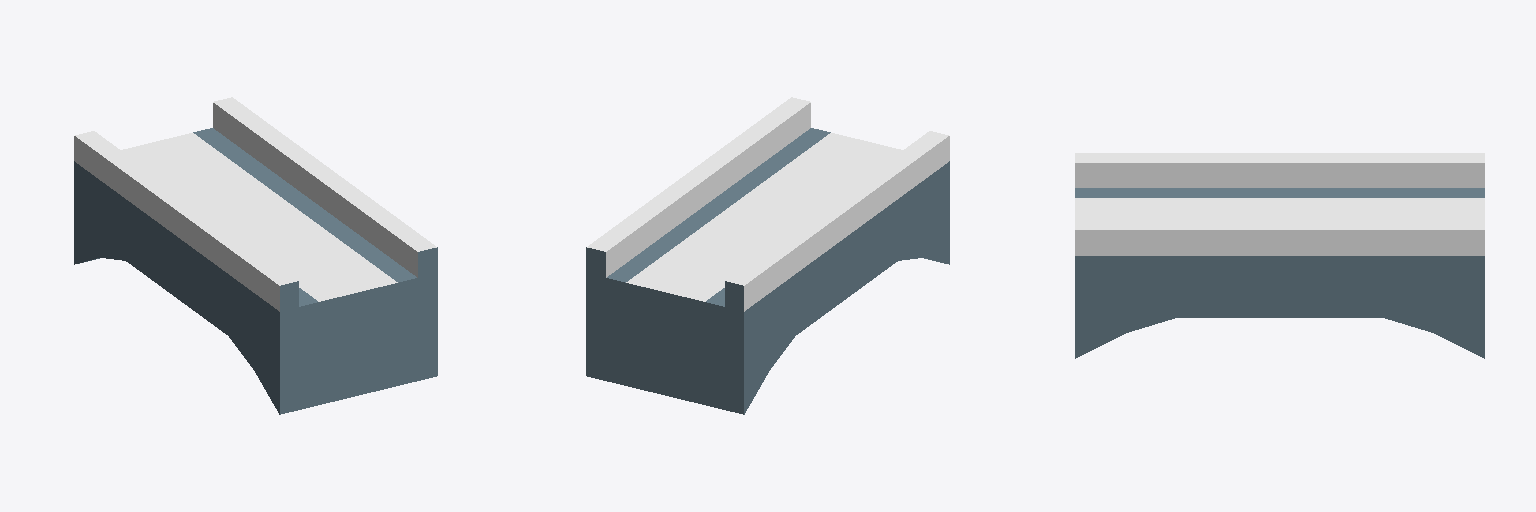
3 renders of one model, left to right at view 1: azimuth 30°, elevation 25°; view 2: azimuth 150°, elevation 25°; view 3: azimuth 270°, elevation 25°, orthographic.
Visible parts, largest first — view 1: group[number redacted]; view 2: group[number redacted]; view 3: group[number redacted].
Part boxes in pixels (x1,y1,x2,y2): group[number redacted]: (74, 97, 437, 414); group[number redacted]: (586, 97, 949, 414); group[number redacted]: (1075, 153, 1484, 358).
Size of the model in its own units: 0.32 by 0.25 by 0.72.